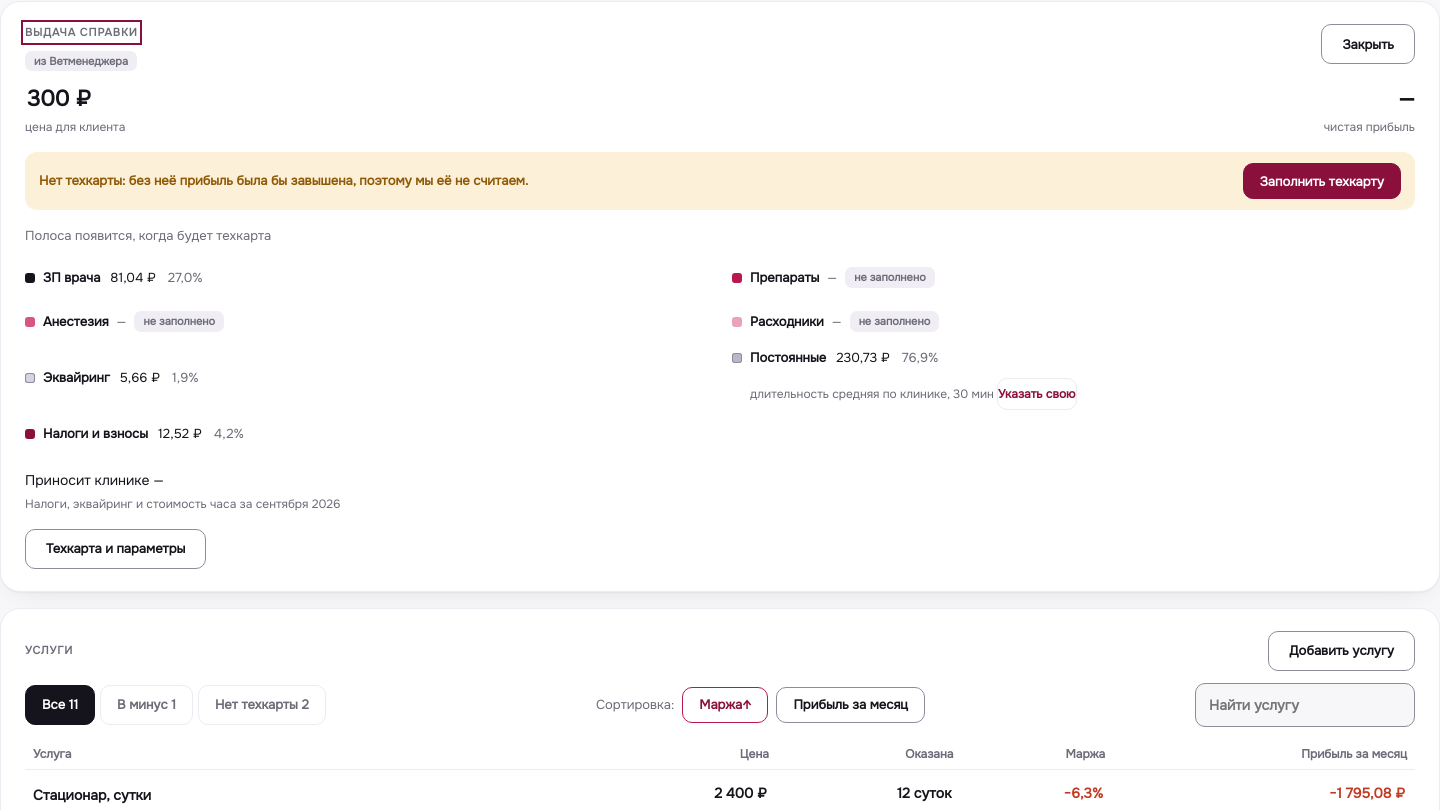
Scenario: PricePage: the card › saves a recipe and the card gets its parts
The image size is (1440, 810).
(page scrolled)
Click the button "Заполнить техкарту": point(1322, 181) [1243, 163, 1401, 199]
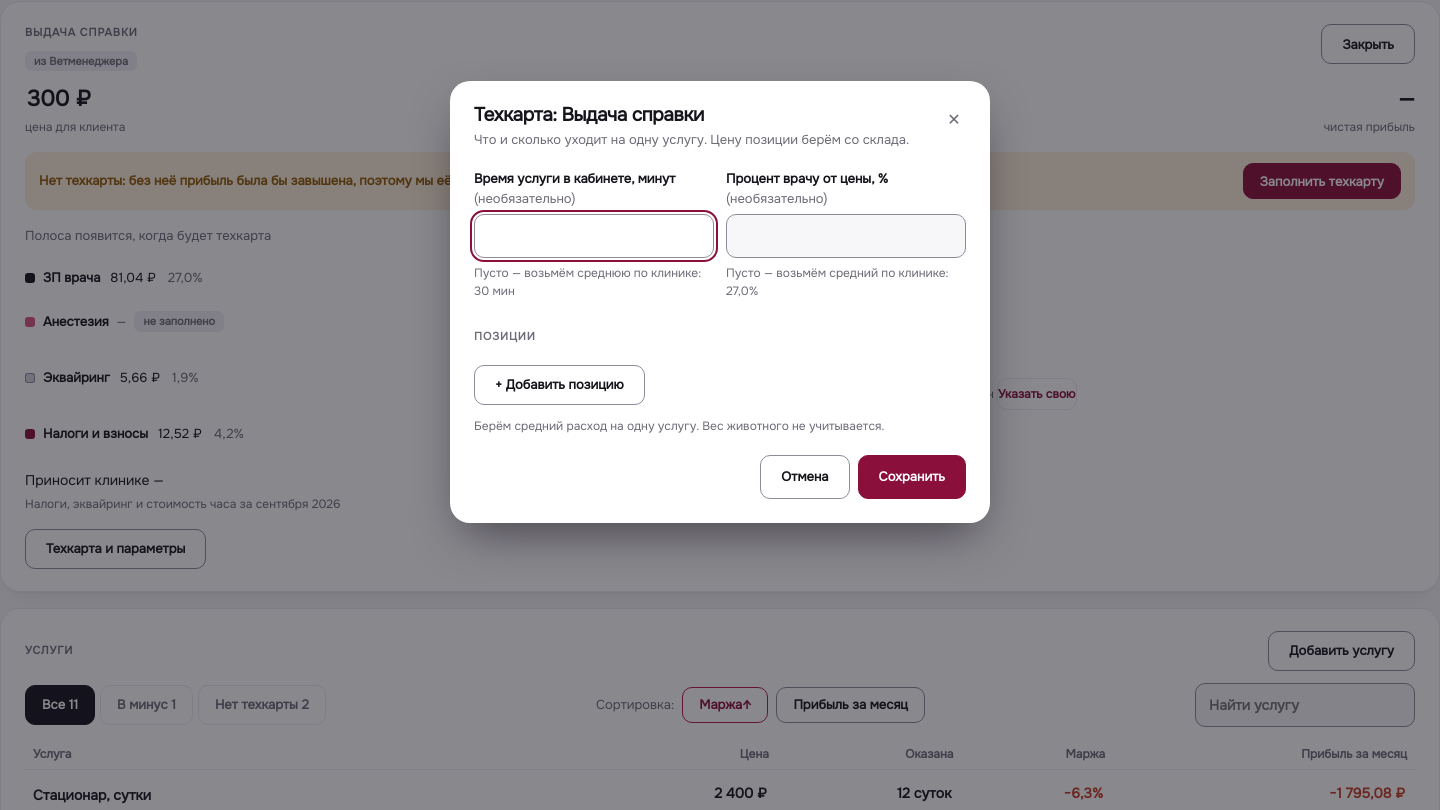
In the field with test id "price-recipe-field-minutes": point(594, 236) [474, 214, 714, 258], type "15"
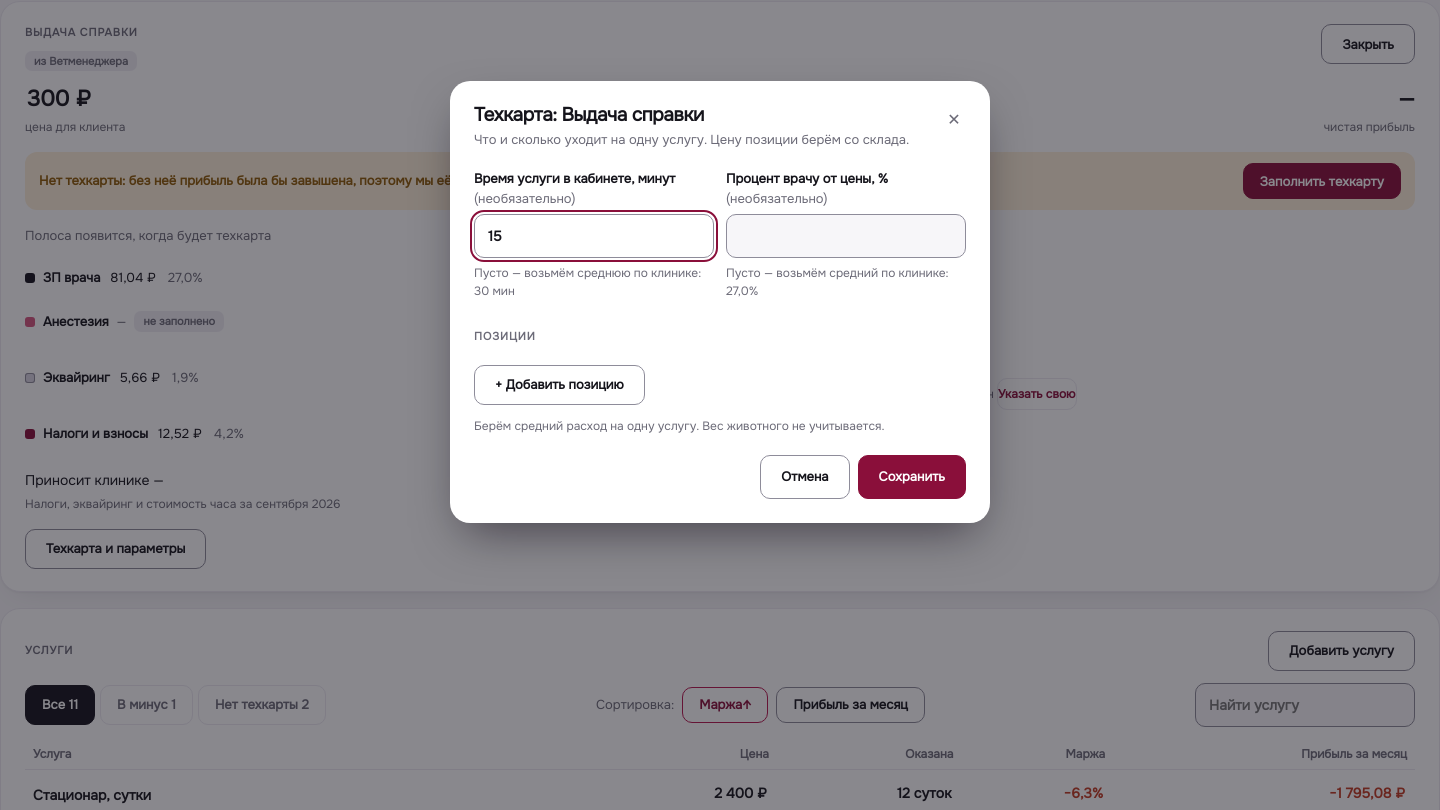
Click the button with test id "price-recipe-save": point(912, 477) [858, 455, 966, 499]
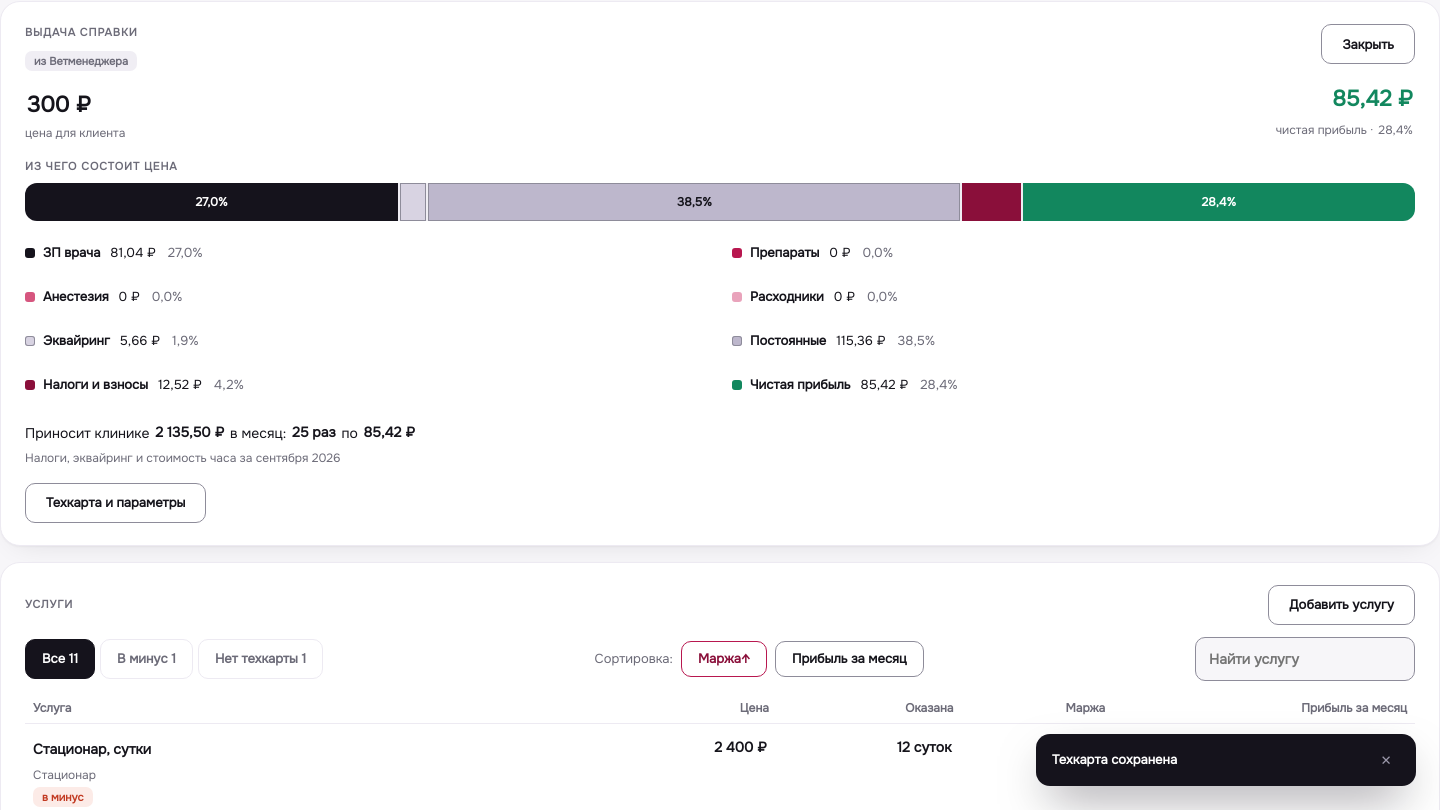
Check: the text "Техкарта сохранена" is shown, box [1052, 750, 1177, 770]
Check: the picture with test id "price-bar" is shown, box [25, 183, 1415, 221]
